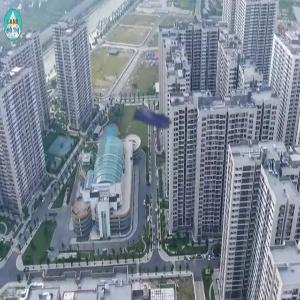drone: (106, 59, 211, 164)
